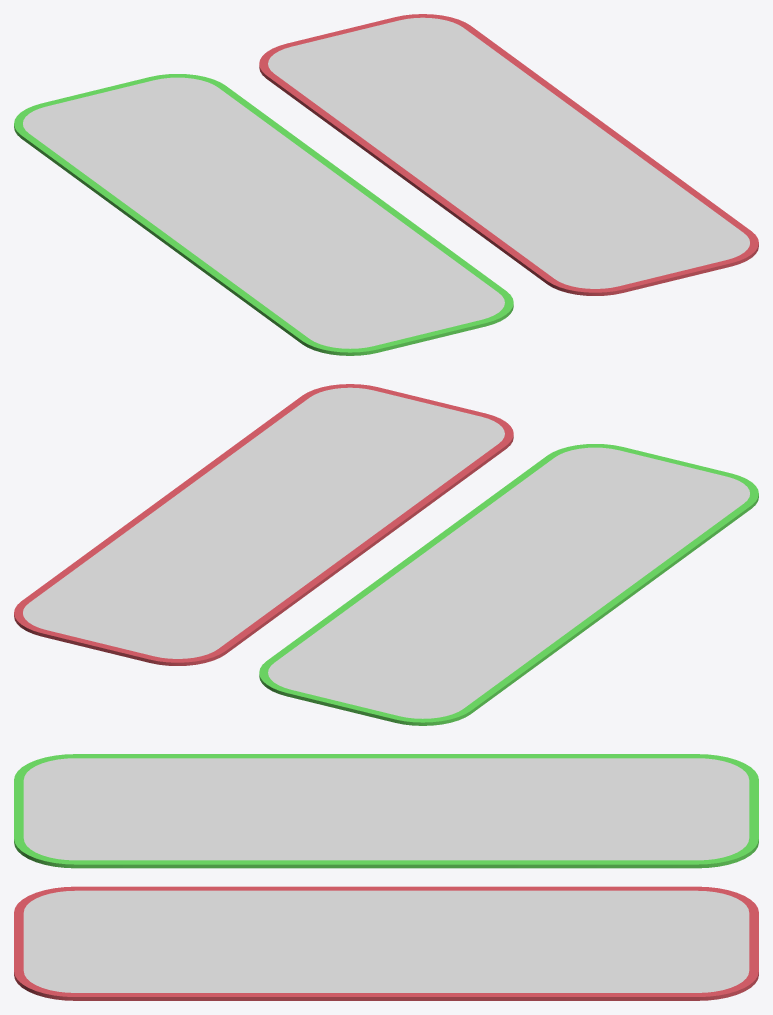
File: slowSpeed.fbx
3 views of the same model, one above another, from view 1: azimuth 30°, elevation 25°; view 2: azimuth 150°, elevation 25°; view 3: azimuth 270°, elevation 25° (orthographic). The views are drawn at different scales.
Visible parts, largest first — view 1: speed, speed.001; view 2: speed, speed.001; view 3: speed, speed.001.
Part boxes in pixels (<box>): speed: <box>259,14,758,295</box>; speed.001: <box>14,74,513,355</box>; speed: <box>14,384,513,665</box>; speed.001: <box>259,444,758,725</box>; speed: <box>14,886,758,1000</box>; speed.001: <box>14,754,758,868</box>.
Bounding box in the file's own units: 10.7 × 13.86 × 0.0777.
